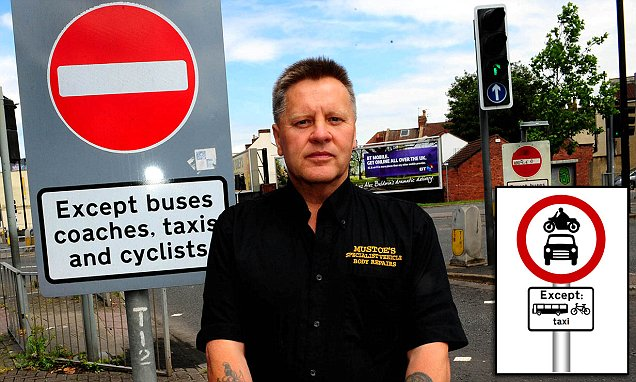No_entry: (45, 3, 198, 154)
